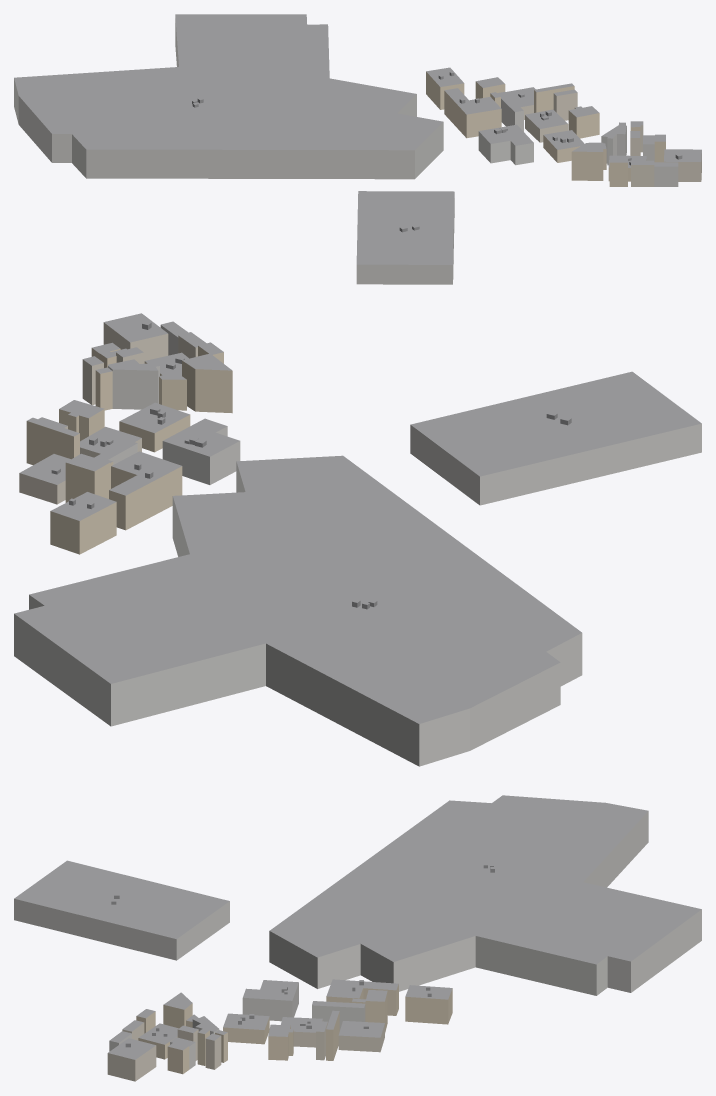
The model's file is building_1_-1.glb.
The picture shows the model from 3 angles, top to bottom: view 1: azimuth 30°, elevation 25°; view 2: azimuth 150°, elevation 25°; view 3: azimuth 270°, elevation 25°; orthographic projection. The views are drawn at different scales.
Visible parts, largest first — view 1: roof, concrete_light, sandstone, concrete_warm; view 2: roof, concrete_light, sandstone, concrete_warm; view 3: roof, concrete_light, sandstone, concrete_warm.
Boxes of the visible parts, x1=… form: roof: x1=14, y1=14, x2=701, y2=264; concrete_light: x1=14, y1=18, x2=678, y2=284; sandstone: x1=426, y1=71, x2=665, y2=186; concrete_warm: x1=521, y1=92, x2=701, y2=186; roof: x1=14, y1=313, x2=701, y2=723; concrete_light: x1=14, y1=325, x2=701, y2=766; sandstone: x1=26, y1=346, x2=232, y2=554; concrete_warm: x1=19, y1=322, x2=197, y2=504; roof: x1=14, y1=795, x2=701, y2=1059; concrete_light: x1=14, y1=811, x2=701, y2=1069; sandstone: x1=136, y1=984, x2=452, y2=1074; concrete_warm: x1=107, y1=1019, x2=384, y2=1081.
Bounding box in the file's own units: 260 × 16.71 × 297.
